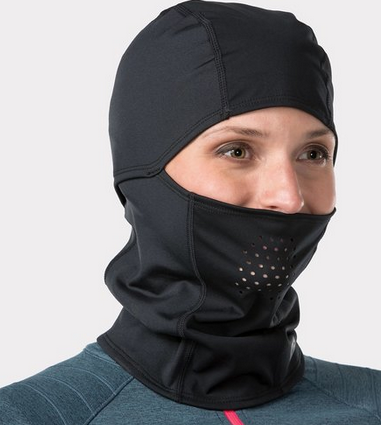with_incorrect_mask: (104, 3, 348, 300)
